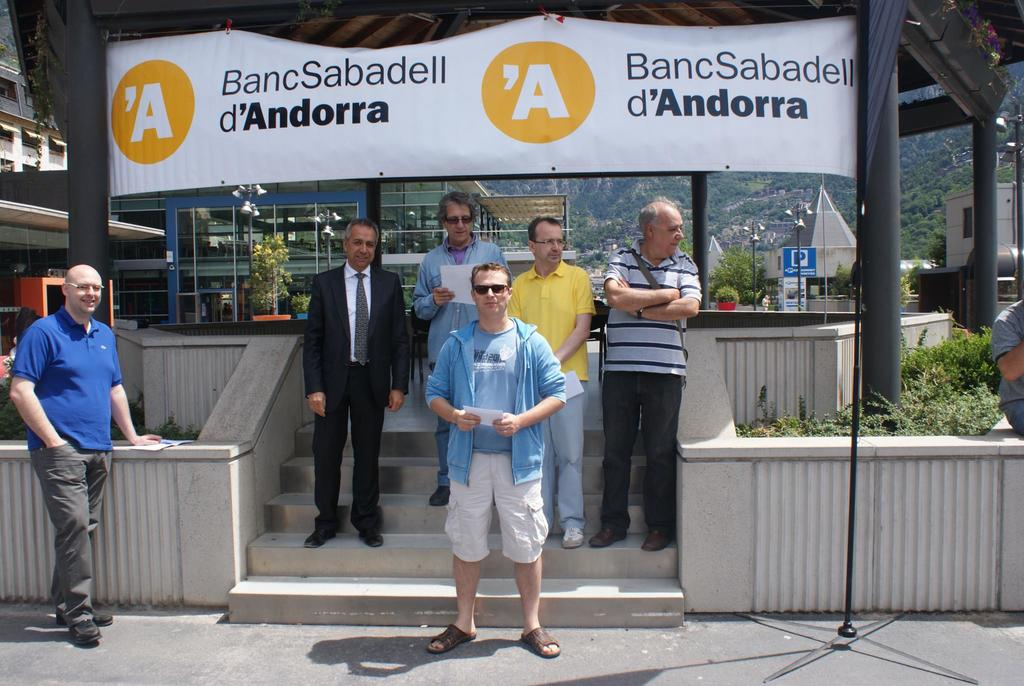Footwear: (430, 623, 477, 657), (516, 623, 561, 657), (51, 608, 118, 625), (68, 619, 105, 643), (301, 523, 335, 547), (589, 525, 624, 547), (643, 528, 671, 551), (425, 482, 450, 505), (559, 529, 584, 549), (358, 528, 384, 547)
